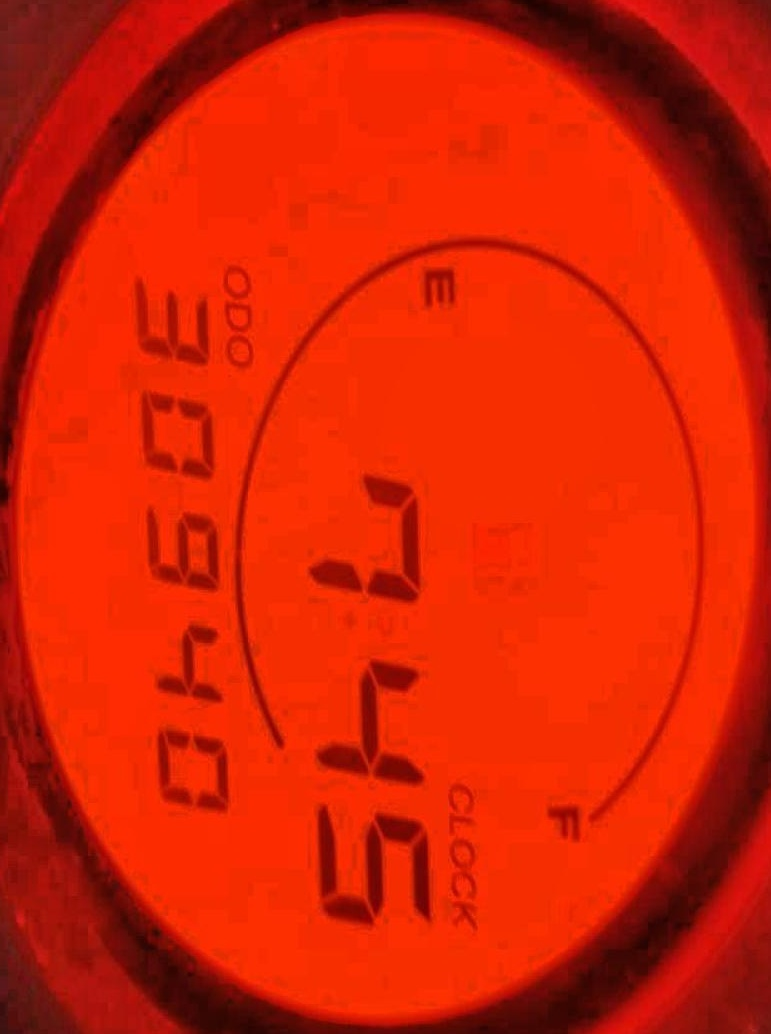0: (139, 388, 214, 478), (154, 726, 228, 809)
3: (132, 278, 208, 365)
4: (313, 656, 423, 789), (154, 619, 221, 701)
5: (310, 806, 434, 931)
7: (299, 463, 426, 606)
9: (144, 506, 218, 588)
X: (419, 263, 458, 306), (547, 802, 583, 839), (224, 333, 251, 366), (223, 263, 249, 296), (224, 300, 250, 330), (448, 899, 477, 925), (448, 782, 474, 809), (449, 839, 474, 867), (449, 869, 474, 897), (447, 812, 473, 834)
